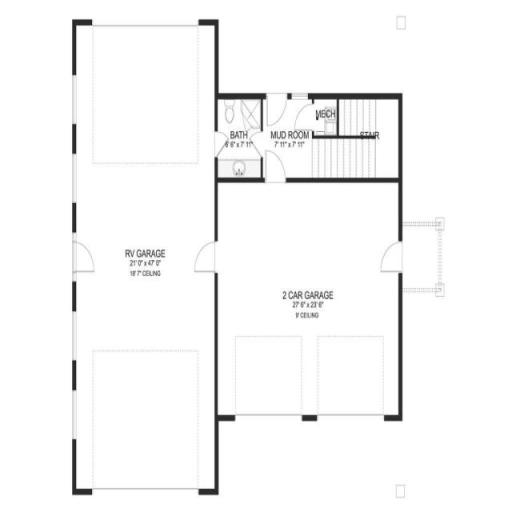Room: (280, 98, 400, 181)
bathroom: (215, 98, 267, 180)
garage: (80, 29, 209, 497), (228, 184, 406, 408)
